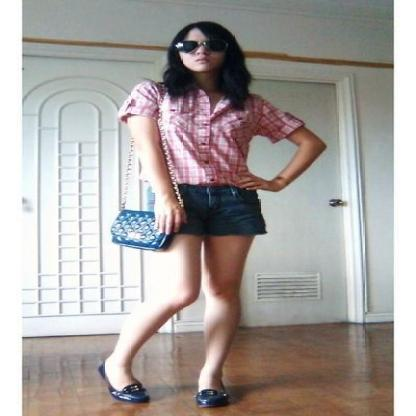bag: (100, 209, 172, 258)
shirt: (112, 81, 304, 185)
shoe: (124, 377, 229, 407)
shorts: (164, 183, 266, 240)
